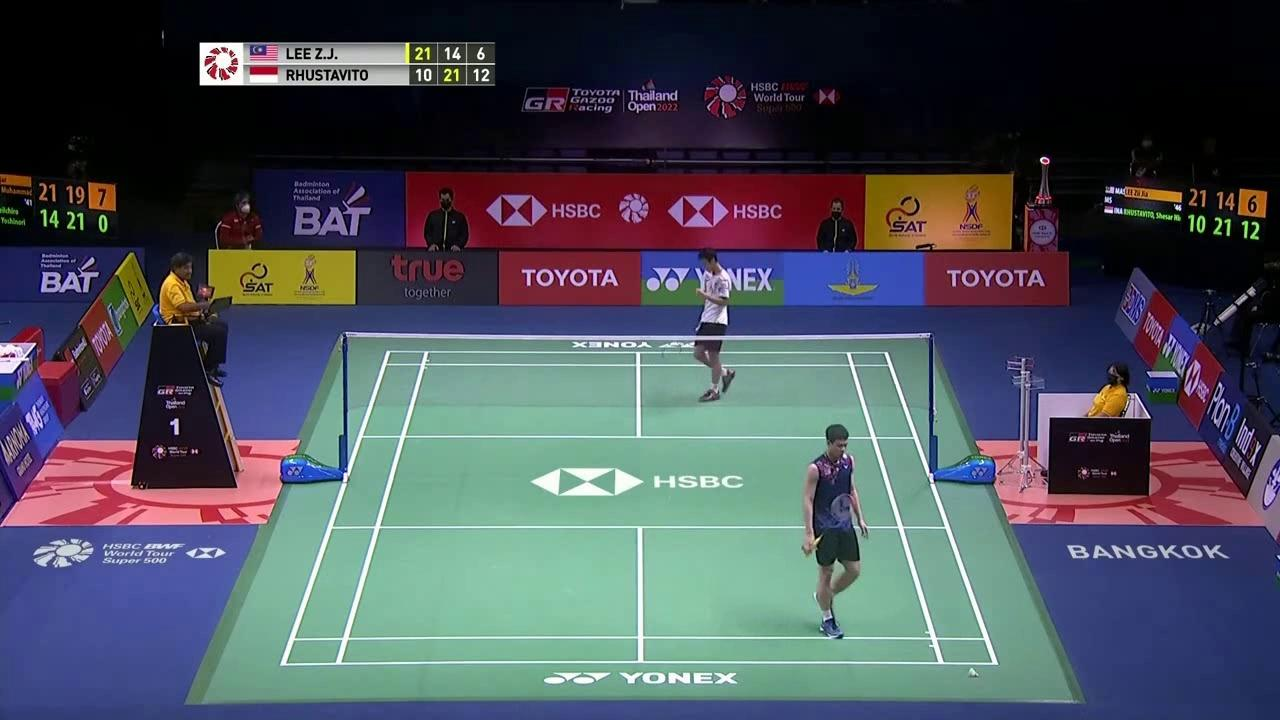racket: (810, 493, 857, 554), (661, 324, 701, 364)
shuttle: (965, 664, 981, 681)
